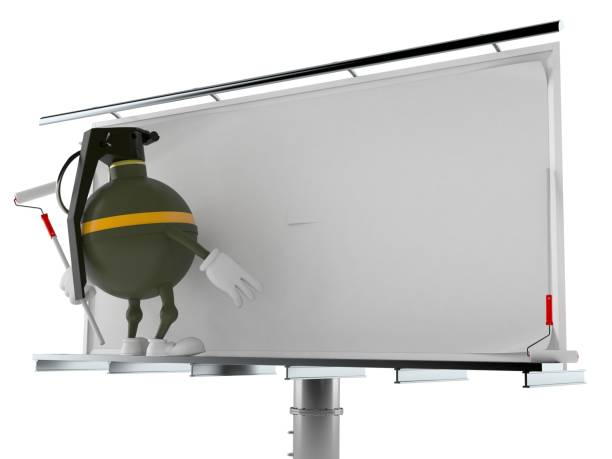e1: (57, 123, 197, 290)
